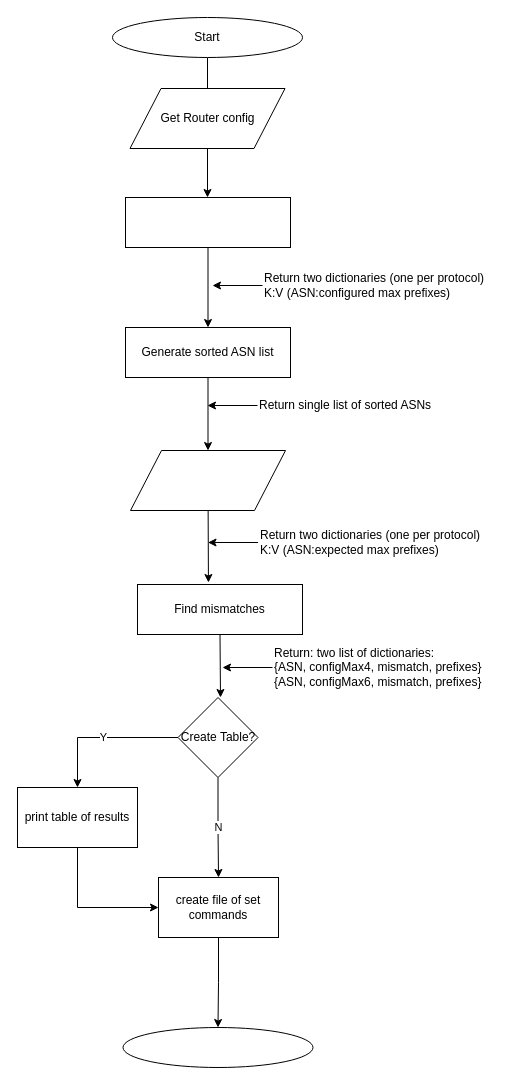
The diagram is 530 pixels wide and 1085 high, and some of its shapes have lost their labels. Here are the shapes that lost their labels. From the top down, the centre of each, then its label:
the point at 207,222: Extract BGP info
the point at 208,480: Get peeringDB info
the point at 217,1047: End
